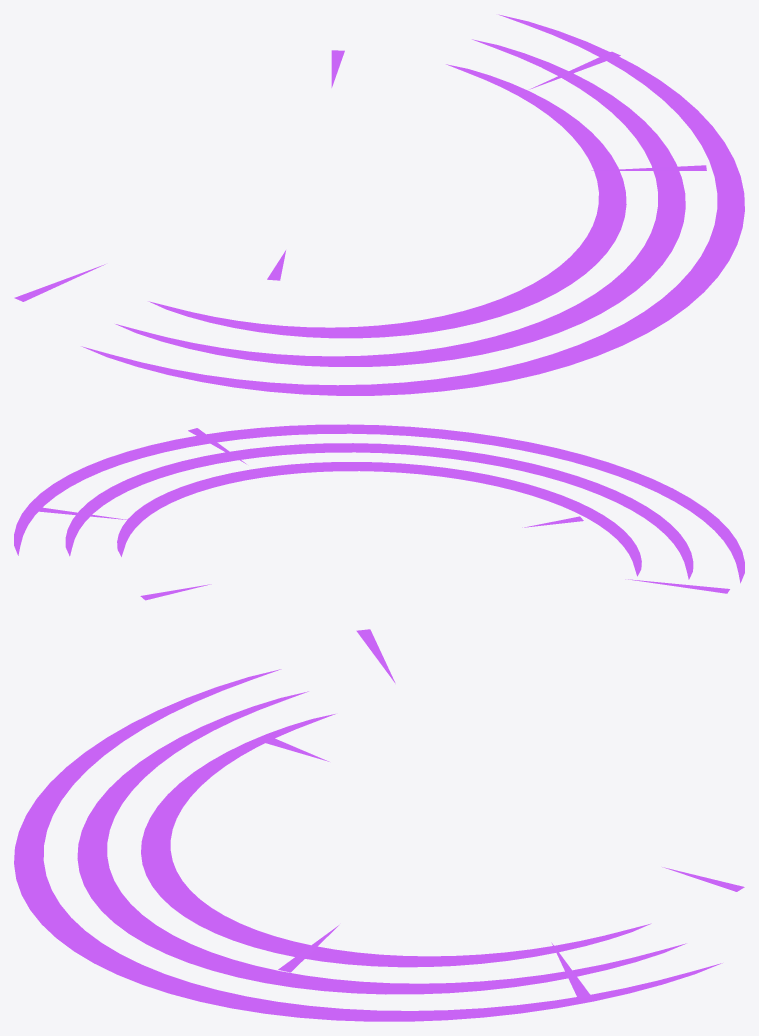
Rendered from Claw_Rake.glb.
3 views of the same model, one above another, from view 1: azimuth 30°, elevation 25°; view 2: azimuth 150°, elevation 25°; view 3: azimuth 270°, elevation 25° (orthographic). The views are drawn at different scales.
Visible parts, largest first — view 1: Claw_Rake_Claw0_2, Claw_Rake_Claw0_1, Claw_Rake_Claw0_0; view 2: Claw_Rake_Claw0_2, Claw_Rake_Claw0_1, Claw_Rake_Claw0_0, Claw_Rake_Spark01, Claw_Rake_Spark04; view 3: Claw_Rake_Claw0_2, Claw_Rake_Claw0_1, Claw_Rake_Claw0_0.
Boxes of the visible parts, x1,y1,x2,y2 form: Claw_Rake_Claw0_2: (81, 14, 744, 395); Claw_Rake_Claw0_1: (115, 39, 685, 366); Claw_Rake_Claw0_0: (148, 64, 626, 338); Claw_Rake_Claw0_2: (14, 424, 744, 583); Claw_Rake_Claw0_1: (65, 443, 693, 579); Claw_Rake_Claw0_0: (117, 462, 641, 576); Claw_Rake_Spark01: (25, 505, 129, 520); Claw_Rake_Spark04: (625, 579, 729, 593); Claw_Rake_Claw0_2: (14, 669, 722, 1021); Claw_Rake_Claw0_1: (77, 691, 686, 994); Claw_Rake_Claw0_0: (141, 714, 651, 967).
Size of the model in its own units: 0.00196 by 0.000125 by 0.00161.
